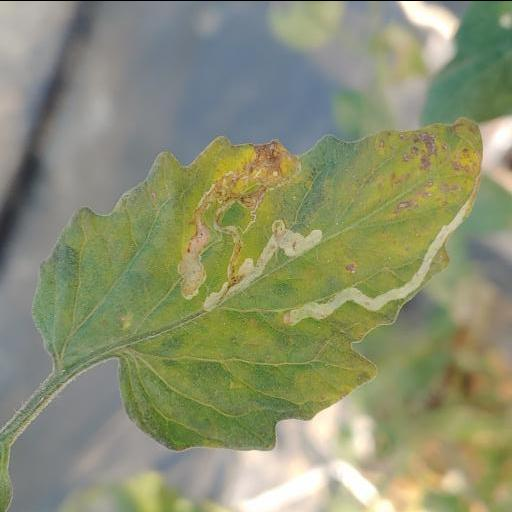disease_tomato: (29, 114, 484, 452)
